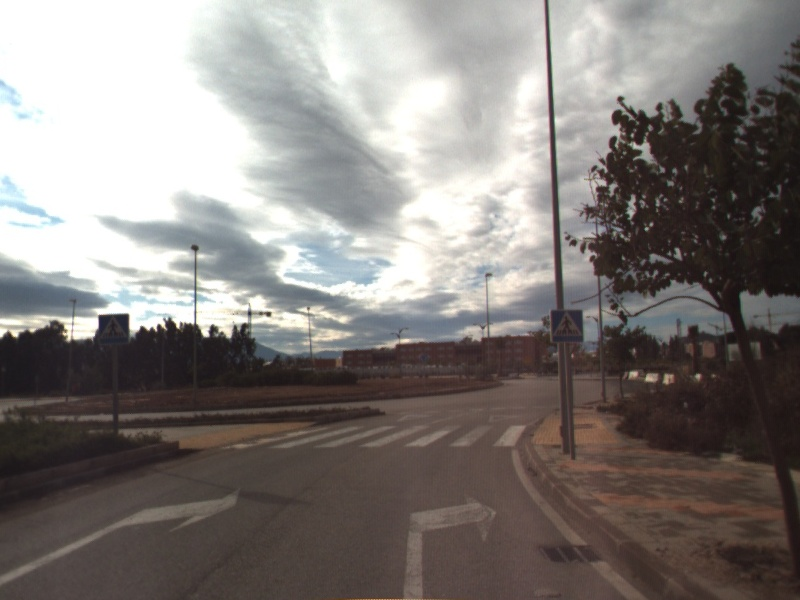RIGHT: (1, 485, 243, 587), (400, 491, 499, 600)
